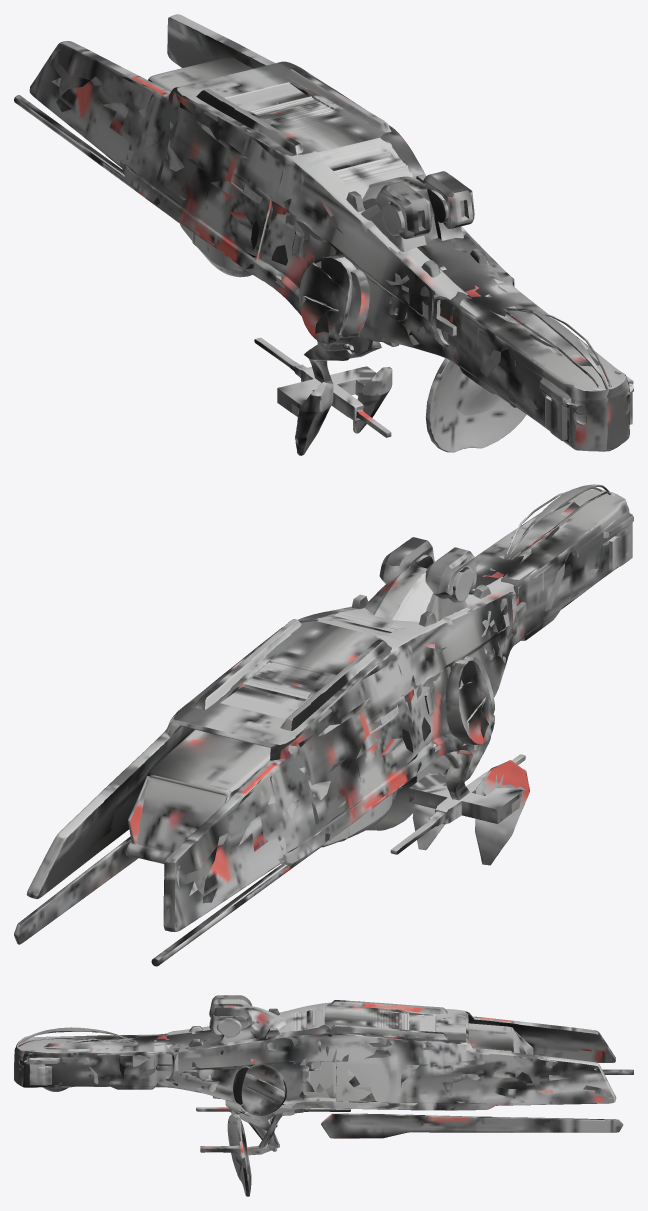
Rendered from alliance_fighter.glb.
3 renders of one model, top to bottom at view 1: azimuth 30°, elevation 25°; view 2: azimuth 150°, elevation 25°; view 3: azimuth 270°, elevation 25°, orthographic. The views are drawn at different scales.
Visible parts, largest first — view 1: convert; view 2: convert; view 3: convert.
Boxes of the visible parts, left/top/right/bottom form: convert: left=14, top=14, right=633, bottom=455; convert: left=14, top=484, right=633, bottom=966; convert: left=14, top=995, right=633, bottom=1196.
Size of the model in its own units: 0.3157 by 0.3594 by 1.19.
1 material, 1 textured.
